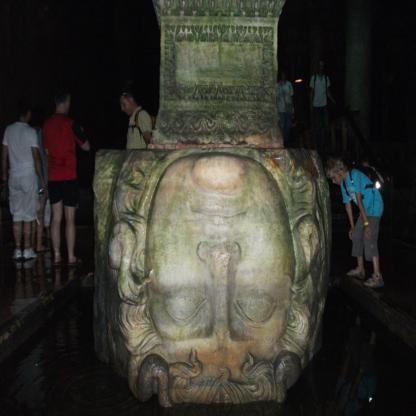face: (122, 99, 134, 116), (330, 174, 342, 186), (320, 62, 324, 73), (282, 72, 286, 80)
